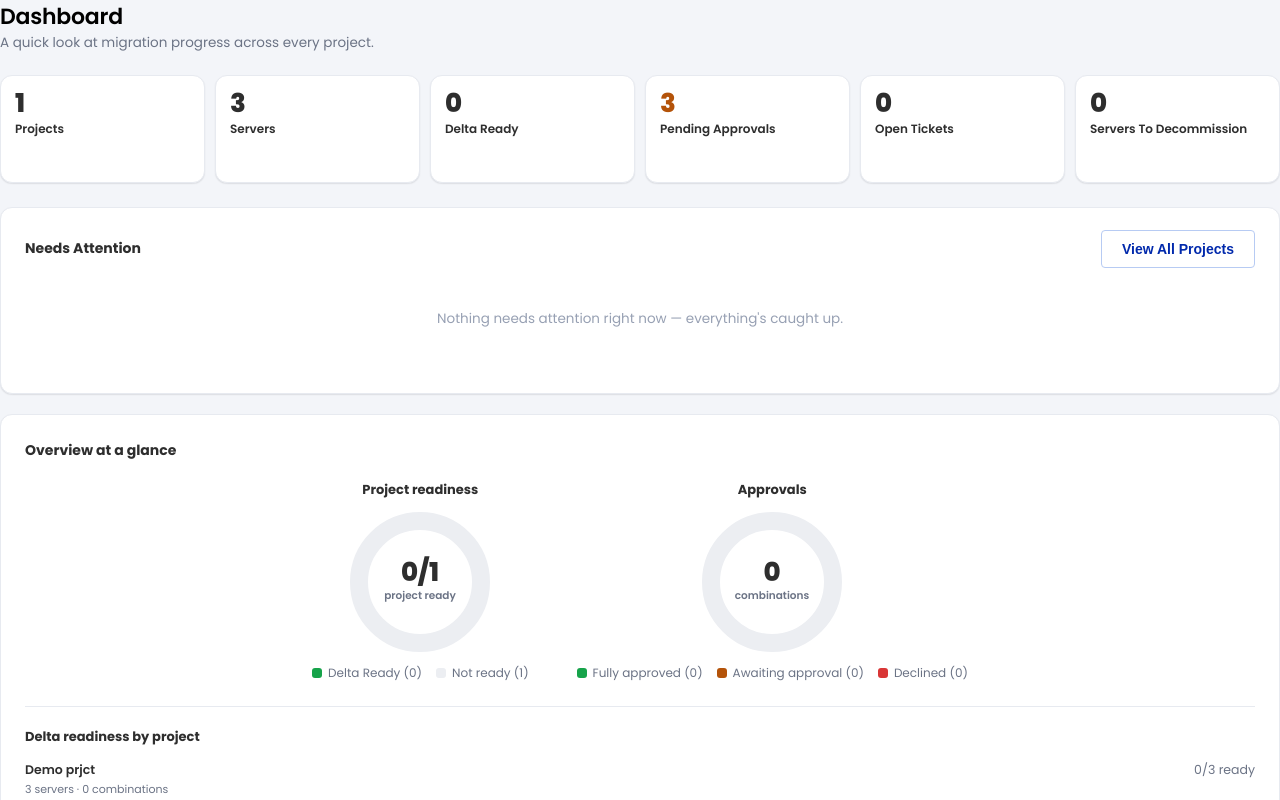
Test: Dashboard server popups › the popup explains itself when the backend sent no list, instead of claiming none exist
Expected: the heading "Dashboard" is shown, [0,1,123,32]
Click the button "3 Servers".
click(318, 129)  # box [215,75,420,183]
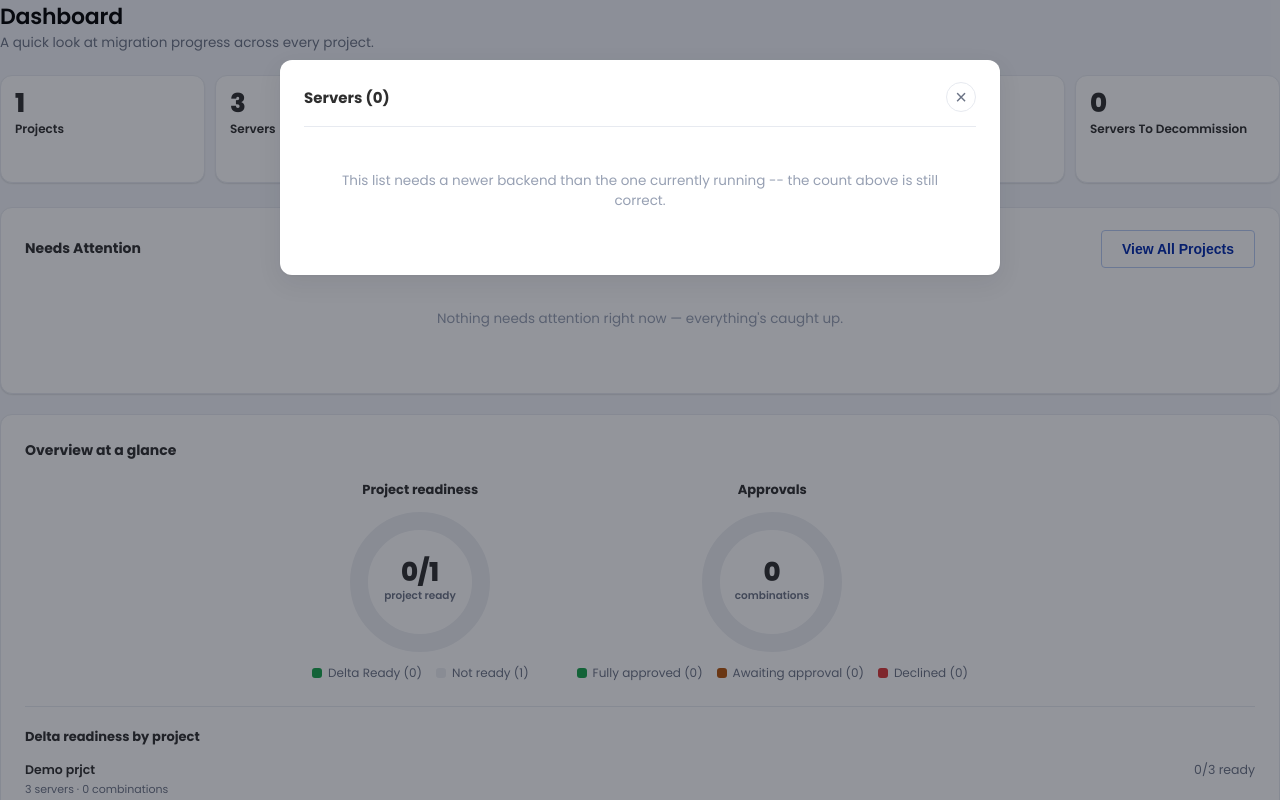
Expected: the text "needs a newer backend" is shown, [342,171,938,210]
